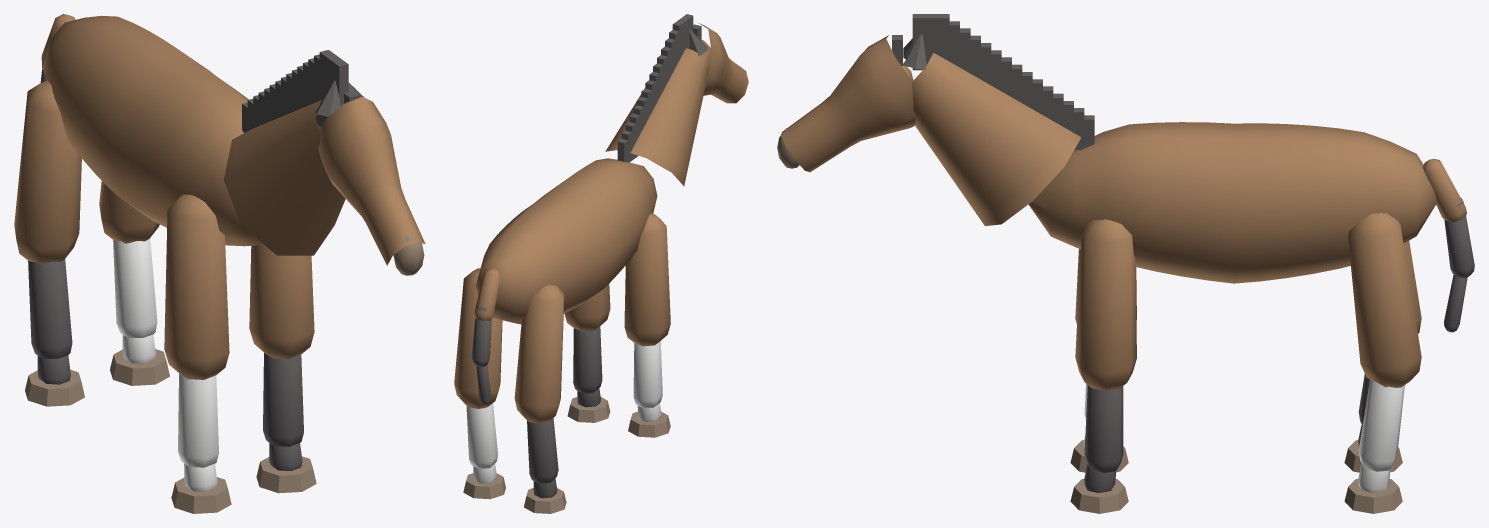
Rendered from draft-horse-standing-bay.glb.
3 views of the same model, side by side, from view 1: azimuth 30°, elevation 25°; view 2: azimuth 150°, elevation 25°; view 3: azimuth 270°, elevation 25° (orthographic). The views are drawn at different scales.
Visible parts, largest first — view 1: draft-horse-standing; view 2: draft-horse-standing; view 3: draft-horse-standing.
Boxes of the visible parts, <box> form: draft-horse-standing: <box>14,14,425,513</box>; draft-horse-standing: <box>454,14,748,513</box>; draft-horse-standing: <box>777,14,1474,513</box>.
Size of the model in its own units: 0.7122 by 2.36 by 3.21.
